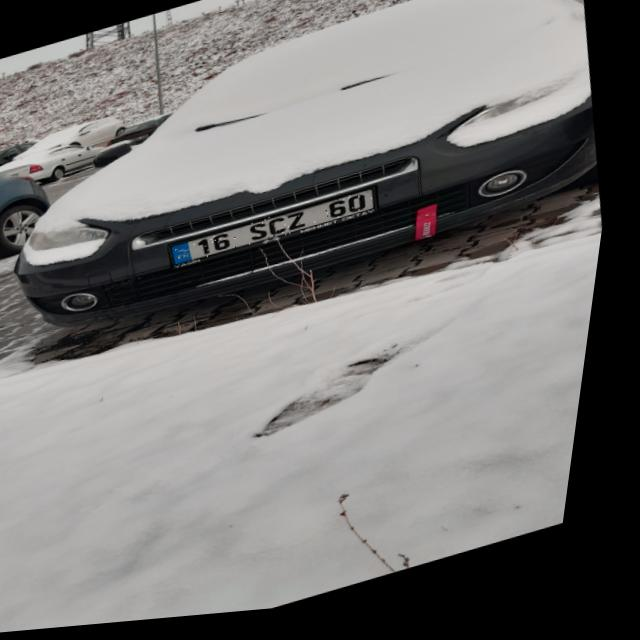license_plate: (174, 193, 384, 272)
